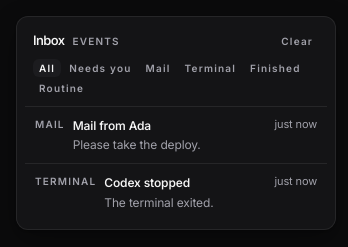
it: Inbox › filters rows by kind
Expected: the text "Mail from Ada" is shown, x1=73 y1=118 x2=151 y2=132
Expected: the text "Codex stopped" is shown, x1=104 y1=175 x2=190 y2=190
Click the button "Mail".
click(158, 68)  # box x1=140 y1=58 x2=176 y2=77
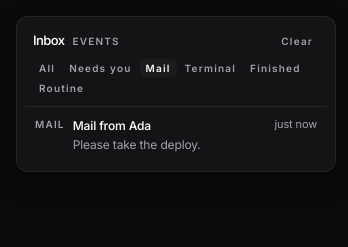
Expected: the text "Mail from Ada" is shown, x1=73 y1=118 x2=151 y2=132
Result: the button "Codex stopped" is gone
Click the button "All".
click(47, 68)  # box x1=33 y1=58 x2=61 y2=77
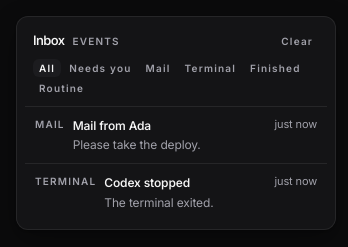
Result: the text "Codex stopped" is shown at x1=104 y1=175 x2=190 y2=190
